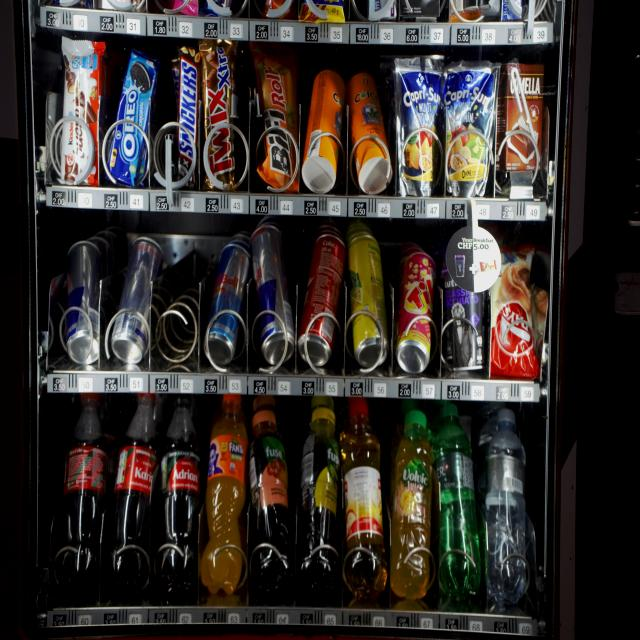7days_croissantschoko_packung_80_1_0000000000003: (493, 242, 538, 384)
bifi_roll__50__4251097402635: (253, 38, 302, 196)
bueno___43__4008400320328: (48, 27, 108, 185)
c-swiss_dosenabisicetea__33__9120025930135: (302, 63, 353, 197), (341, 67, 394, 194)
caferoyal_classicmacchiato__33__7617014164487: (441, 251, 485, 368)
caprisun_multivitamin__20__4000177605004: (443, 54, 501, 202), (392, 51, 447, 197)
coke__flasche_50__54491472: (109, 390, 156, 593), (58, 392, 103, 591), (301, 229, 345, 371)
coke_zero_flasche_50__5449000131836: (158, 392, 202, 591)
comella_schokodrink__33__7613100037253: (498, 52, 550, 199)
evian___50__3068320353500: (482, 404, 530, 606)
fanta___50__40822938: (206, 392, 246, 598)
fuse_lemon__50__5449000235947: (295, 404, 345, 598)
fuse_lemon_dose_33__5449000235947: (351, 232, 386, 361)
fuse_peach__50__5449000236623: (248, 404, 290, 596)
oreo___66__84100733: (108, 46, 159, 194)
ramseier_schorle__50__7610057012456: (341, 403, 382, 603)
redbull___33__90162909: (106, 232, 161, 368), (250, 220, 291, 374), (62, 235, 106, 365)
redbull_light__33__90162800: (204, 241, 256, 371)
snickers___50__5000159461122: (169, 43, 207, 192)
tiki_himbeerbrause_dose_33_1_: (399, 252, 436, 375)
twix___50__5000159459228: (202, 35, 238, 192)
valser_classic__50__76404160: (439, 399, 477, 610)
volvic_pinapple__50__305764335648: (389, 408, 434, 606)
